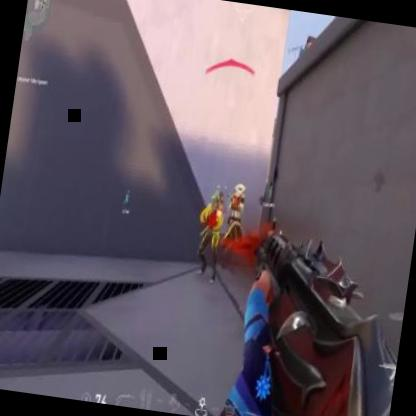enemy: (190, 188, 227, 284), (219, 182, 250, 257)
enemy_head: (232, 182, 245, 198), (211, 191, 220, 209)
